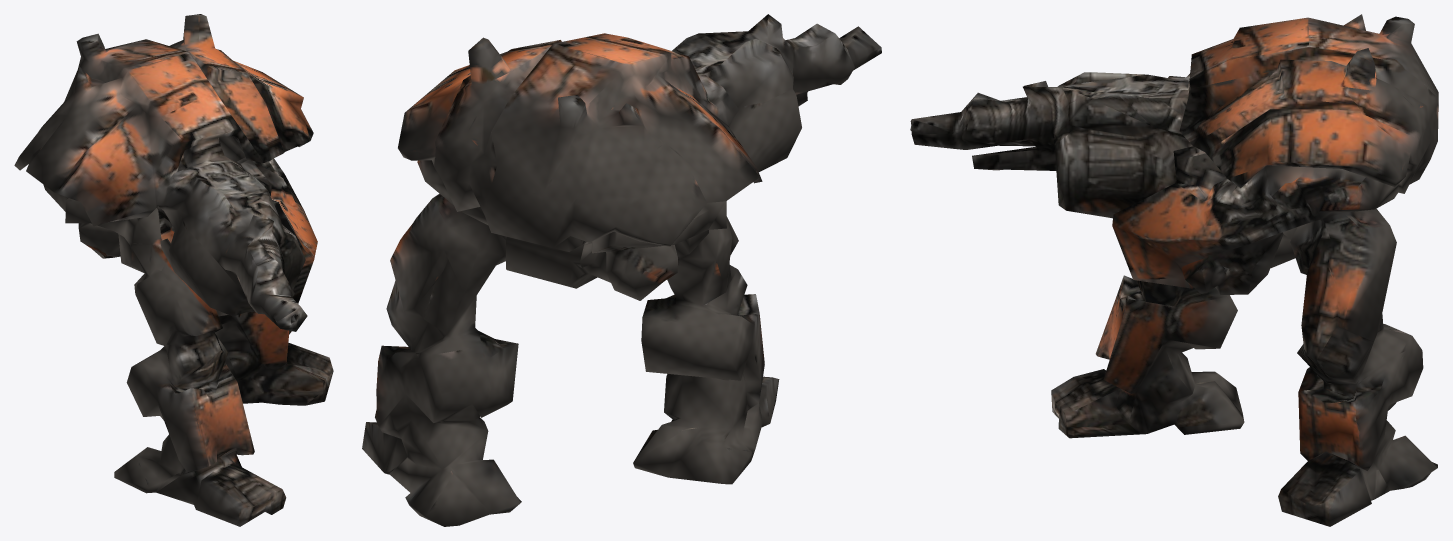
File: hammerback_lod2.glb
The picture shows the model from 3 angles, left to right: view 1: azimuth 30°, elevation 25°; view 2: azimuth 150°, elevation 25°; view 3: azimuth 270°, elevation 25°; orthographic projection. The views are drawn at different scales.
Parts seen in each view (by area): view 1: geometry_0; view 2: geometry_0; view 3: geometry_0.
Boxes of the visible parts, left/top/right/bottom form: geometry_0: left=14, top=14, right=333, bottom=526; geometry_0: left=362, top=14, right=881, bottom=526; geometry_0: left=910, top=14, right=1438, bottom=526.
Bounding box in the file's own units: 1.42 × 1.7 × 1.97.
Materials: 1 (1 with a texture image).
